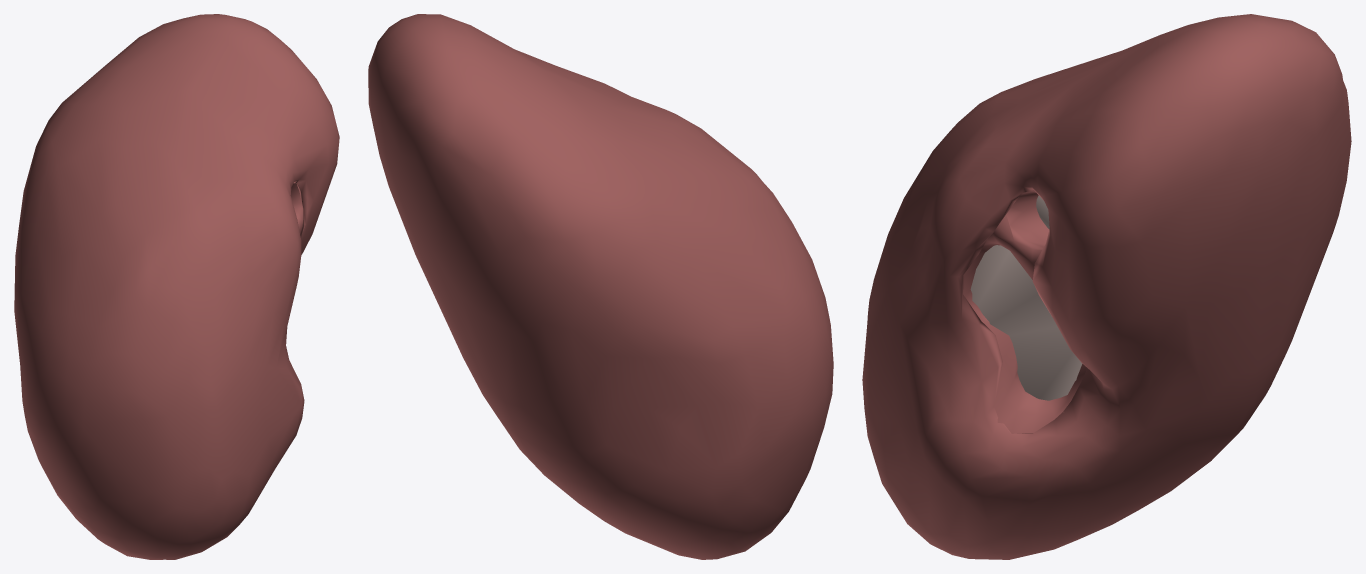
Rendered from 3d-vh-f-kidney-r_lod_20.glb.
The picture shows the model from 3 angles, left to right: view 1: azimuth 30°, elevation 25°; view 2: azimuth 150°, elevation 25°; view 3: azimuth 270°, elevation 25°; orthographic projection. The views are drawn at different scales.
Visible parts, largest first — view 1: VH_F_kidney_capsule_R; view 2: VH_F_kidney_capsule_R; view 3: VH_F_kidney_capsule_R, VH_F_renal_column_R, VH_F_hilum_of_kidney_R.
Part boxes in pixels (bbox=[...]): VH_F_kidney_capsule_R: bbox=[14, 14, 339, 559]; VH_F_kidney_capsule_R: bbox=[368, 14, 833, 559]; VH_F_kidney_capsule_R: bbox=[862, 14, 1351, 559]; VH_F_renal_column_R: bbox=[970, 195, 1082, 400]; VH_F_hilum_of_kidney_R: bbox=[963, 190, 1087, 433].
Bounding box in the file's own units: 0.0735 × 0.0978 × 0.0697.
